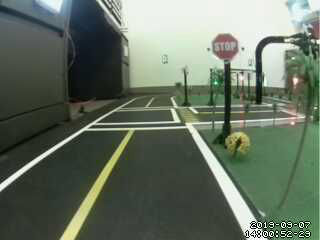Stop_Sign: (210, 29, 241, 62)
